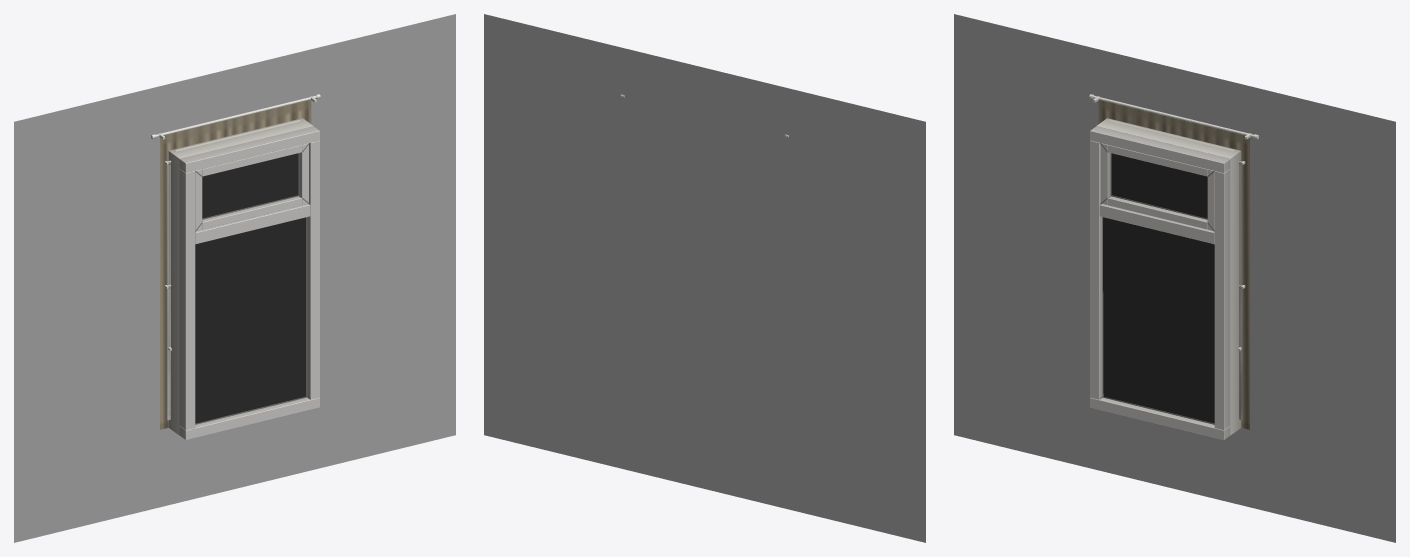
3 views of the same model, side by side, from view 1: azimuth 30°, elevation 25°; view 2: azimuth 150°, elevation 25°; view 3: azimuth 330°, elevation 25° (orthographic).
Visible parts, largest first — view 1: room__card, glass__lower, curtain__C1_drawn, paint_joinery__frame_jamb_L, glass__top, paint_joinery__frame_jamb_R, paint_joinery__reveal_jamb_L, paint_joinery__frame_head_rail, paint_joinery__frame_sill_rail, paint_joinery__transom, curtain__C2_open_L, paint_joinery__reveal_head (+6 smaller); view 2: room__card; view 3: room__card, glass__lower, curtain__C1_drawn, paint_joinery__frame_jamb_R, glass__top, paint_joinery__frame_jamb_L, paint_joinery__reveal_jamb_R, paint_joinery__frame_head_rail, paint_joinery__frame_sill_rail, paint_joinery__transom, paint_joinery__reveal_head, paint_joinery__vent_sash_bottom_rail (+6 smaller).
Boxes of the visible parts, x1=… form: room__card: x1=14, y1=14, x2=455, y2=542; glass__lower: x1=195, y1=217, x2=305, y2=423; curtain__C1_drawn: x1=160, y1=100, x2=311, y2=429; paint_joinery__frame_jamb_L: x1=179, y1=169, x2=195, y2=430; glass__top: x1=202, y1=153, x2=298, y2=218; paint_joinery__frame_jamb_R: x1=307, y1=140, x2=319, y2=399; paint_joinery__reveal_jamb_L: x1=168, y1=150, x2=181, y2=435; paint_joinery__frame_head_rail: x1=179, y1=126, x2=319, y2=172; paint_joinery__frame_sill_rail: x1=179, y1=397, x2=319, y2=439; paint_joinery__transom: x1=195, y1=204, x2=310, y2=244; curtain__C2_open_L: x1=160, y1=131, x2=186, y2=428; paint_joinery__reveal_head: x1=171, y1=118, x2=311, y2=158; room__card: x1=484, y1=14, x2=925, y2=542; room__card: x1=954, y1=14, x2=1395, y2=542; glass__lower: x1=1102, y1=217, x2=1214, y2=423; curtain__C1_drawn: x1=1098, y1=100, x2=1249, y2=429; paint_joinery__frame_jamb_R: x1=1214, y1=169, x2=1230, y2=430; glass__top: x1=1111, y1=153, x2=1207, y2=218; paint_joinery__frame_jamb_L: x1=1090, y1=140, x2=1102, y2=399; paint_joinery__reveal_jamb_R: x1=1228, y1=150, x2=1241, y2=435; paint_joinery__frame_head_rail: x1=1090, y1=126, x2=1230, y2=172; paint_joinery__frame_sill_rail: x1=1090, y1=397, x2=1230, y2=439; paint_joinery__transom: x1=1099, y1=204, x2=1214, y2=244; paint_joinery__reveal_head: x1=1098, y1=118, x2=1238, y2=158; paint_joinery__vent_sash_bottom_rail: x1=1108, y1=196, x2=1207, y2=229.
Bounding box in the file's own units: 2.8 × 2.55 × 0.2015.
Materials: 7 (3 with a texture image).
